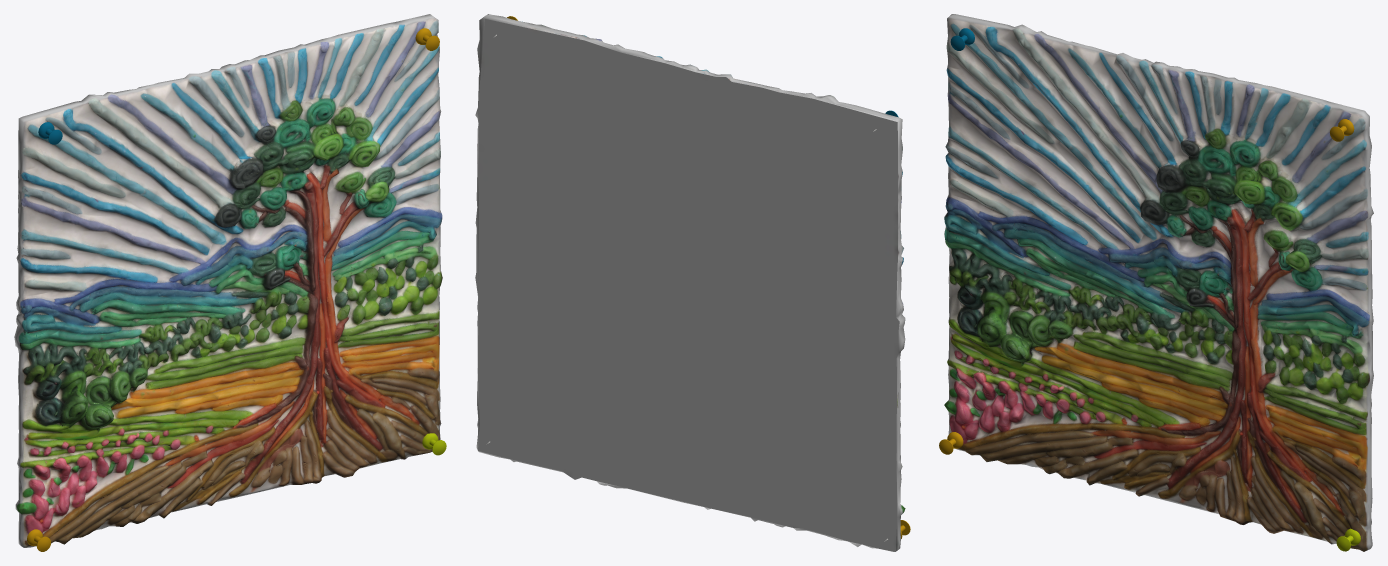
File: PlastilinPeizagh.obj
The picture shows the model from 3 angles, left to right: view 1: azimuth 30°, elevation 25°; view 2: azimuth 150°, elevation 25°; view 3: azimuth 330°, elevation 25°; orthographic projection.
Visible parts, largest first — view 1: PlastilinPeizagh_2_LP_12k; view 2: PlastilinPeizagh_2_LP_12k; view 3: PlastilinPeizagh_2_LP_12k.
Boxes of the visible parts, box(x1,y1,x2,y2) form: PlastilinPeizagh_2_LP_12k: box(14, 14, 442, 547); PlastilinPeizagh_2_LP_12k: box(475, 14, 905, 551); PlastilinPeizagh_2_LP_12k: box(944, 14, 1373, 551).
Size of the model in its own units: 200 by 199 by 16.72.
Materials: 1 (1 with a texture image).
